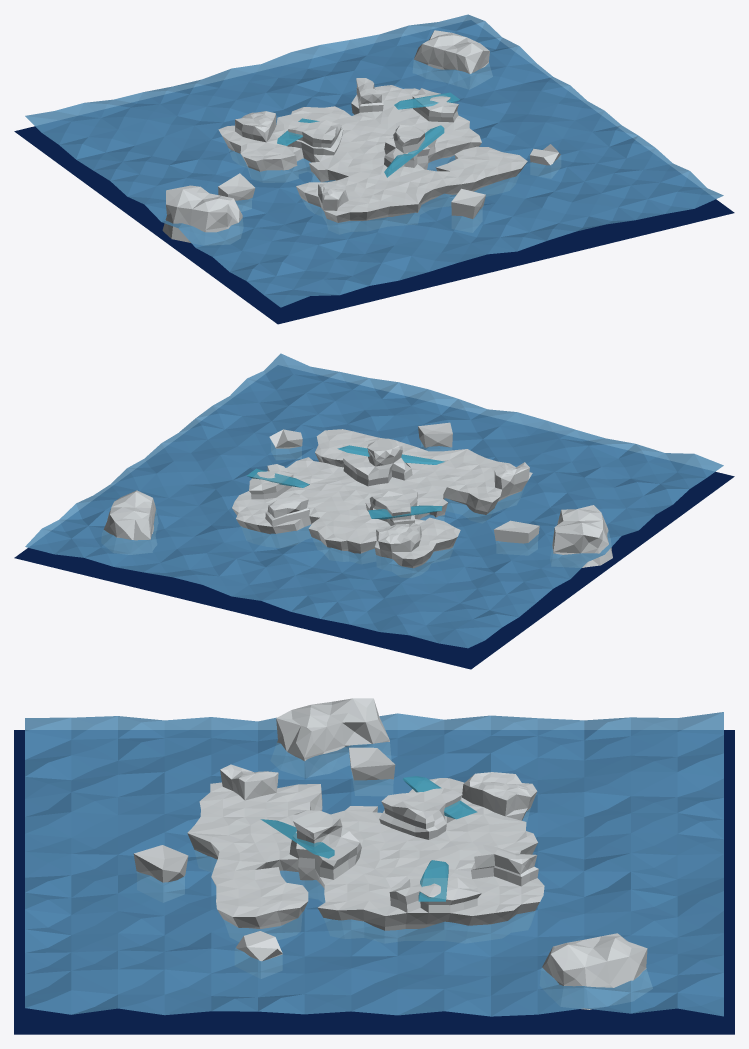
Rendered from ground_2_ice.fbx.
3 views of the same model, one above another, from view 1: azimuth 30°, elevation 25°; view 2: azimuth 150°, elevation 25°; view 3: azimuth 270°, elevation 25° (orthographic). The views are drawn at different scales.
Visible parts, largest first — view 1: water_surface1, snowmap_land, water_deep1, pCube11, pCube10, pCube9, pCube8, pCube15, pCube13; view 2: water_surface1, snowmap_land, water_deep1, pCube11, pCube10, pCube8, pCube9, pCube12; view 3: water_surface1, snowmap_land, water_deep1, pCube11, pCube10, pCube9, pCube8, pCube12, pCube13, pCube14, pCube15.
Boxes of the visible parts, bbox=[...] form: water_surface1: bbox=[25, 14, 723, 307]; snowmap_land: bbox=[218, 78, 527, 222]; water_deep1: bbox=[14, 126, 734, 324]; pCube11: bbox=[162, 185, 242, 242]; pCube10: bbox=[414, 30, 489, 73]; pCube9: bbox=[451, 188, 485, 219]; pCube8: bbox=[218, 173, 255, 200]; pCube15: bbox=[384, 125, 444, 177]; pCube13: bbox=[394, 92, 459, 109]; water_surface1: bbox=[25, 353, 723, 648]; snowmap_land: bbox=[232, 429, 532, 568]; water_deep1: bbox=[14, 471, 734, 669]; pCube11: bbox=[552, 505, 612, 567]; pCube10: bbox=[103, 490, 156, 540]; pCube8: bbox=[493, 520, 539, 543]; pCube9: bbox=[418, 422, 452, 447]; pCube12: bbox=[269, 429, 302, 448]; water_surface1: bbox=[25, 712, 723, 1016]; snowmap_land: bbox=[187, 764, 544, 930]; water_deep1: bbox=[14, 730, 734, 1034]; pCube11: bbox=[276, 698, 389, 761]; pCube10: bbox=[542, 933, 647, 1009]; pCube9: bbox=[133, 845, 188, 882]; pCube8: bbox=[349, 747, 395, 780]; pCube12: bbox=[236, 931, 282, 961]; pCube13: bbox=[418, 860, 448, 901]; pCube14: bbox=[403, 776, 477, 819]; pCube15: bbox=[260, 819, 334, 858].
Bounding box in the file's own units: 661 × 82.85 × 661.
